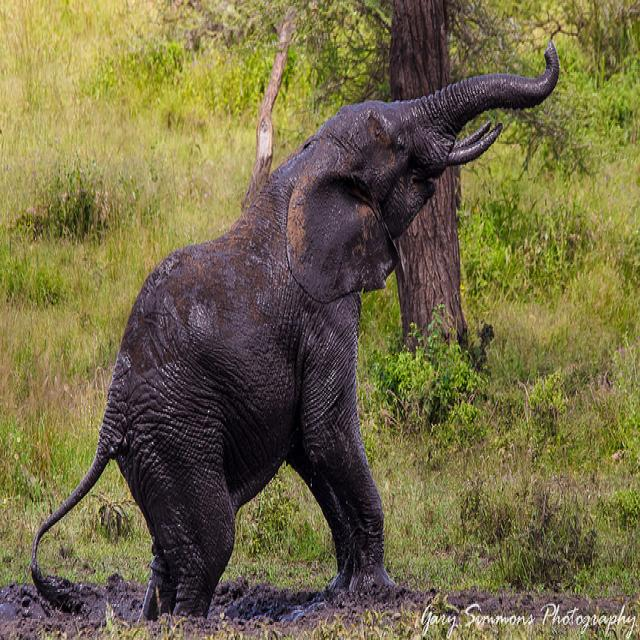Elephant: (30, 37, 559, 624)
